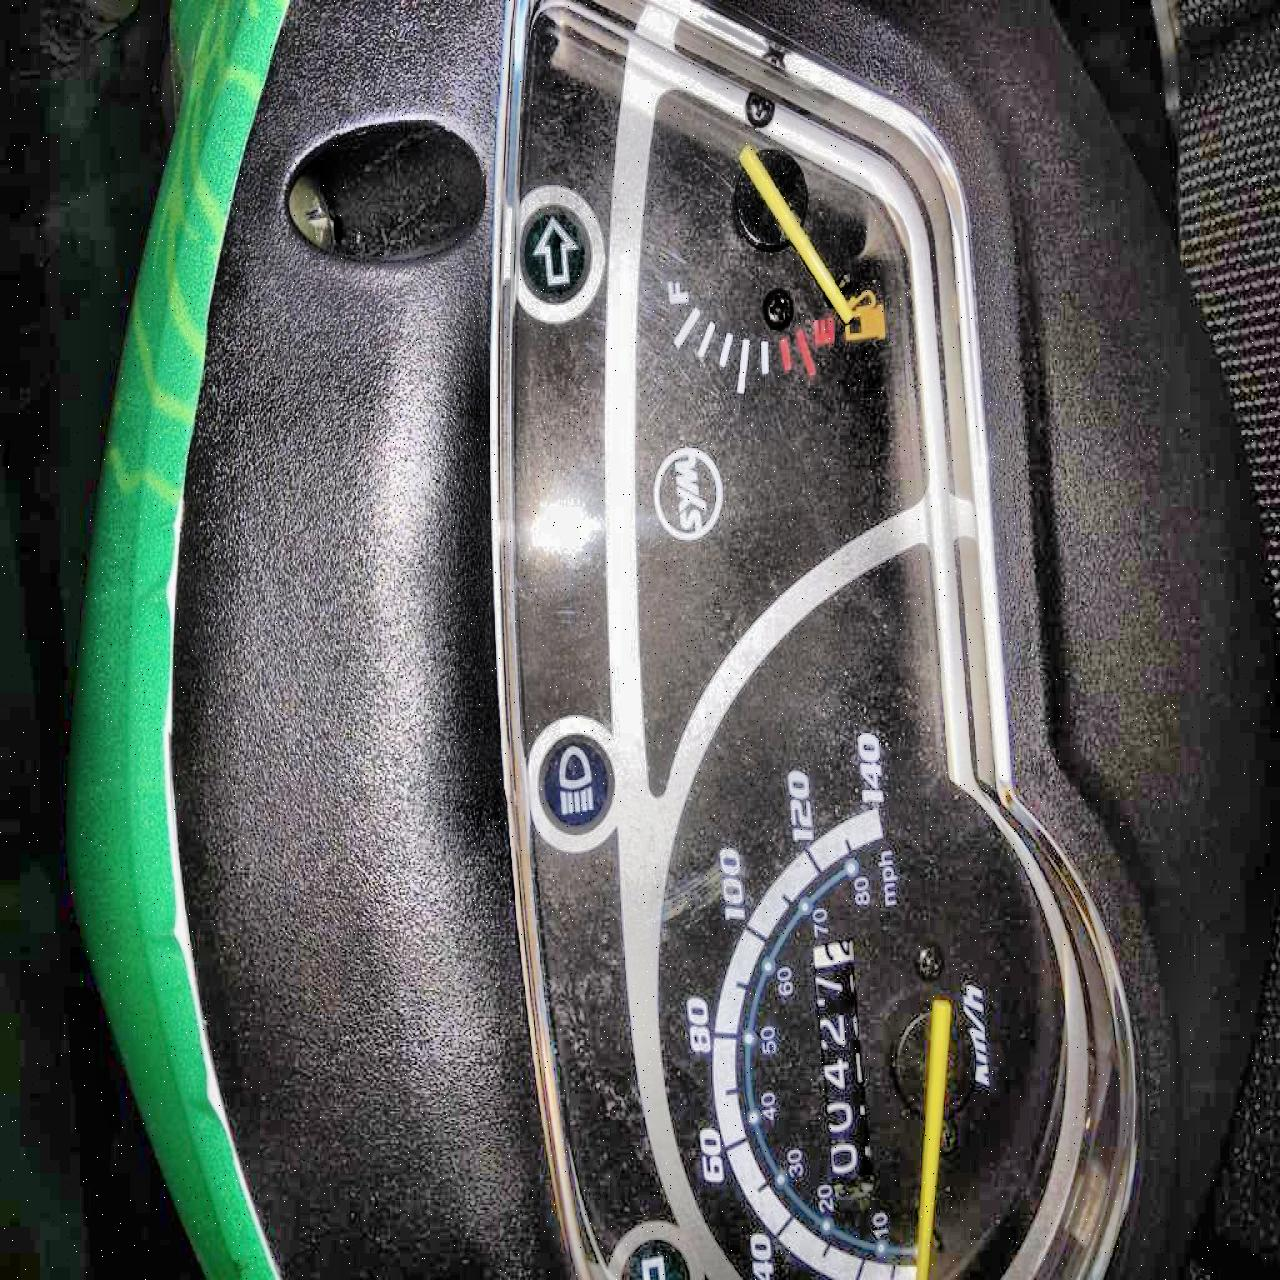0: (821, 1098, 855, 1133), (828, 1141, 858, 1175)
2: (815, 1013, 845, 1050), (822, 937, 853, 960)
4: (821, 1057, 850, 1090)
7: (811, 972, 845, 1007)
odometer: (808, 937, 872, 1182)
